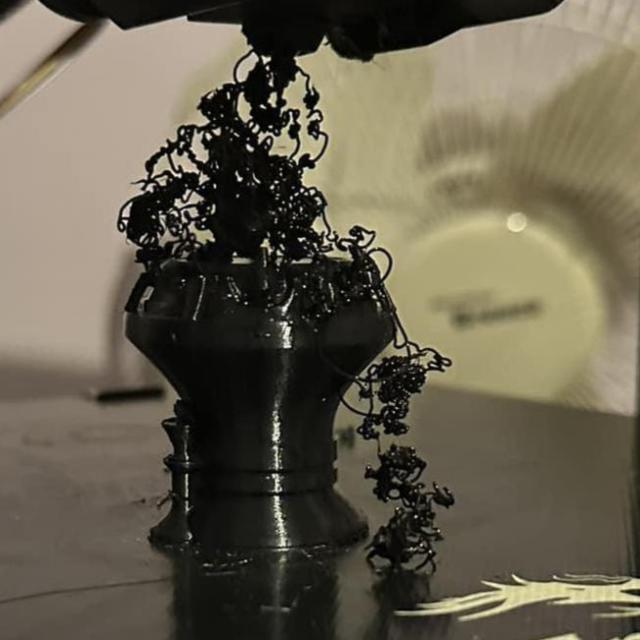spaghetti: (127, 91, 340, 282), (351, 353, 456, 574)
